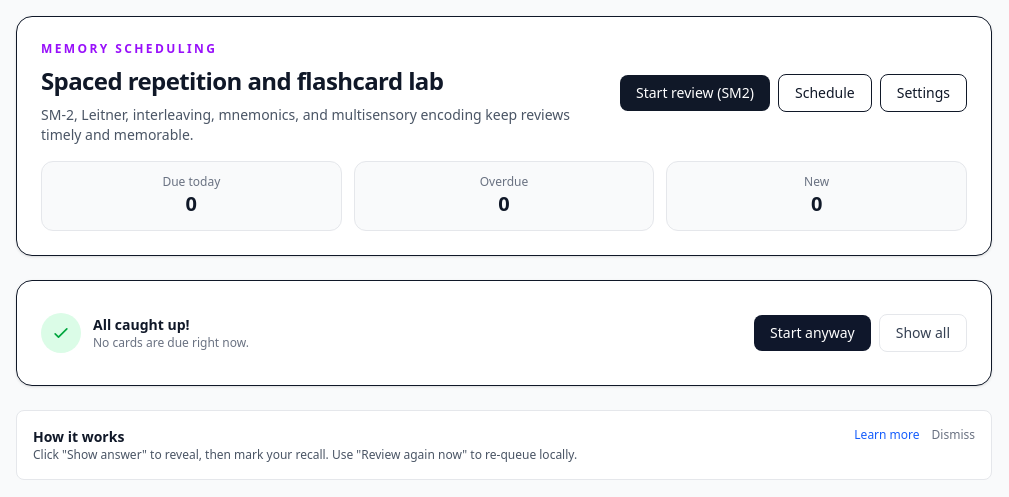
FlashcardsReviewPage — loading and stats › dismisses intro banner when clicking Dismiss
The image size is (1009, 497).
Expected: the text "How it works" is shown, [33,427,124,446]
Step 1. Click the button "Dismiss" → (953, 435), box [932,427,975,443]
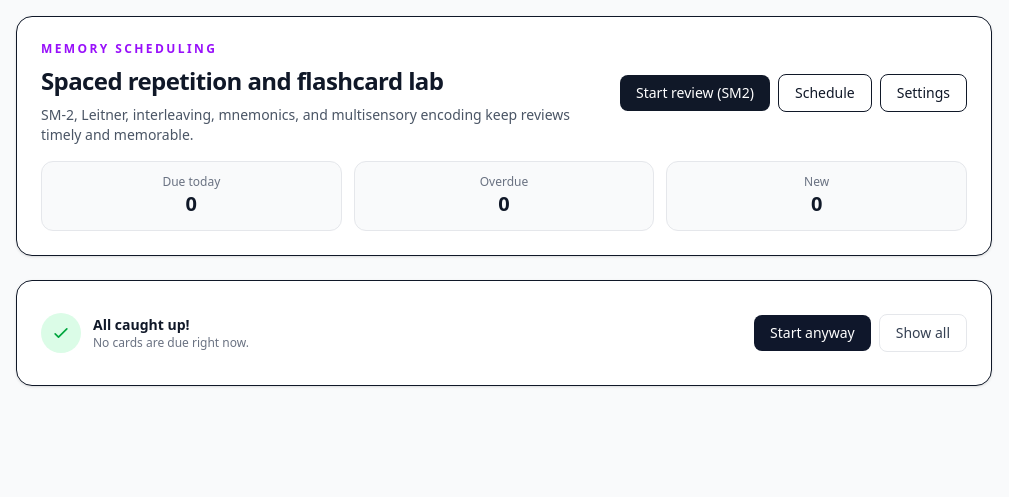
Result: the text "How it works" is gone
